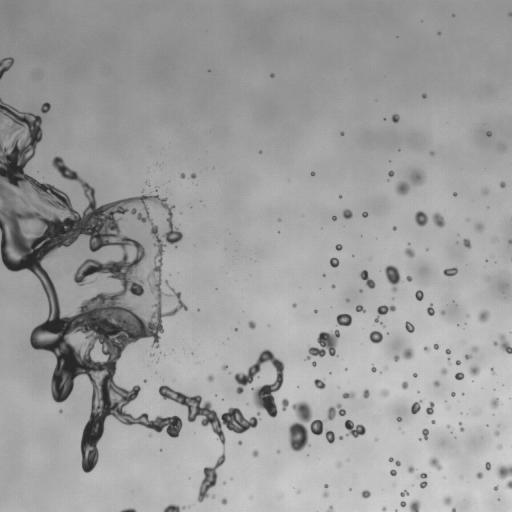droplet: (304, 329, 339, 360), (384, 265, 400, 292), (344, 418, 366, 437), (495, 463, 511, 489), (493, 333, 511, 354), (0, 57, 14, 81), (410, 170, 426, 185), (335, 312, 352, 326), (368, 329, 383, 344), (414, 210, 428, 226), (428, 455, 442, 471), (395, 181, 410, 195), (432, 212, 445, 228), (477, 309, 490, 323), (407, 498, 421, 511), (402, 347, 415, 359), (468, 364, 480, 377), (489, 397, 502, 409), (494, 423, 506, 436), (418, 428, 429, 441), (443, 267, 458, 276), (425, 401, 434, 416), (313, 378, 325, 389), (404, 247, 415, 258), (14, 102, 25, 113), (1, 115, 12, 126), (63, 157, 74, 168), (399, 172, 410, 183), (54, 177, 65, 188), (74, 202, 85, 213), (172, 219, 183, 230), (481, 227, 492, 238), (467, 230, 478, 241), (376, 273, 387, 284), (37, 311, 48, 322), (324, 322, 335, 333), (124, 341, 135, 352), (412, 347, 423, 358), (45, 351, 56, 362), (261, 360, 272, 371), (458, 362, 469, 373), (213, 368, 224, 379), (265, 372, 276, 383), (74, 373, 85, 384), (111, 373, 122, 384), (251, 377, 262, 388), (42, 378, 53, 389), (438, 385, 449, 396), (495, 388, 506, 399), (271, 390, 282, 401), (331, 394, 342, 405), (123, 402, 134, 413), (214, 404, 225, 415), (176, 406, 187, 417), (288, 412, 299, 423), (103, 415, 114, 426), (333, 415, 344, 426), (180, 420, 191, 431), (334, 424, 345, 435), (280, 431, 291, 442), (498, 485, 509, 496), (442, 494, 452, 506), (342, 390, 355, 399), (426, 302, 434, 316), (342, 208, 352, 219), (474, 221, 484, 232), (329, 257, 340, 267), (501, 456, 511, 467), (405, 321, 414, 333), (469, 406, 481, 415), (496, 143, 506, 153), (406, 464, 417, 473), (354, 305, 366, 313), (400, 487, 409, 497), (361, 489, 371, 498), (463, 238, 471, 249), (415, 290, 423, 301), (454, 372, 465, 380), (2, 96, 11, 105), (22, 165, 31, 174), (390, 175, 399, 184), (407, 182, 416, 191), (398, 193, 407, 202), (351, 209, 360, 218), (425, 217, 434, 226), (164, 242, 173, 251), (20, 267, 29, 276), (420, 298, 429, 307), (470, 308, 479, 317), (350, 311, 359, 320), (469, 312, 478, 321), (486, 315, 495, 324), (239, 322, 248, 331), (449, 351, 458, 360), (114, 359, 123, 368), (479, 366, 488, 375), (184, 388, 193, 397), (340, 399, 349, 408), (419, 400, 428, 409), (482, 402, 491, 411), (309, 411, 318, 420), (81, 413, 90, 422), (74, 430, 83, 439), (95, 439, 104, 448), (423, 464, 432, 473), (489, 465, 498, 474), (403, 494, 412, 503), (362, 388, 370, 398), (391, 114, 399, 123), (247, 320, 255, 329), (440, 367, 448, 376), (206, 373, 214, 382), (380, 389, 389, 397), (251, 447, 258, 457), (218, 505, 229, 511), (481, 187, 489, 195), (475, 471, 483, 479), (187, 172, 196, 179), (371, 363, 377, 373), (485, 461, 491, 471), (401, 381, 408, 389), (432, 380, 440, 387), (335, 244, 342, 251), (423, 346, 430, 353), (335, 461, 342, 468), (390, 469, 397, 476), (39, 123, 46, 130), (35, 141, 42, 148), (46, 156, 53, 163), (53, 169, 60, 176), (69, 178, 76, 185), (119, 192, 126, 199), (111, 194, 118, 201), (165, 198, 172, 205), (336, 213, 343, 220), (408, 214, 415, 221), (442, 215, 449, 222), (470, 216, 477, 223), (409, 217, 416, 224), (482, 220, 489, 227), (467, 221, 474, 228), (409, 243, 416, 250), (332, 250, 339, 257), (402, 254, 409, 261), (391, 260, 398, 267), (8, 269, 15, 276), (398, 272, 405, 279), (384, 280, 391, 287), (159, 283, 166, 290), (378, 313, 385, 320), (337, 324, 344, 331), (374, 324, 381, 331), (146, 335, 153, 342), (334, 345, 341, 352), (438, 345, 445, 352), (396, 349, 403, 356), (272, 351, 279, 358), (313, 354, 320, 361), (398, 355, 405, 362), (250, 356, 257, 363), (406, 357, 413, 364), (440, 360, 447, 367), (454, 365, 461, 372), (281, 368, 288, 375), (436, 374, 443, 381), (473, 374, 480, 381), (406, 376, 413, 383), (232, 381, 239, 388), (243, 383, 250, 390), (125, 384, 132, 391), (356, 389, 363, 396), (491, 390, 498, 397), (68, 391, 75, 398), (58, 400, 65, 407), (285, 404, 292, 411), (260, 408, 267, 415), (132, 410, 139, 417), (243, 413, 250, 420), (147, 414, 154, 421), (196, 414, 203, 421), (339, 415, 346, 422), (351, 419, 358, 426), (134, 423, 141, 430), (426, 423, 433, 430), (220, 424, 227, 431), (488, 424, 495, 431), (247, 426, 254, 433), (148, 427, 155, 434), (306, 430, 313, 437), (494, 436, 501, 443), (301, 445, 308, 452), (437, 457, 444, 464), (207, 460, 214, 467), (388, 462, 395, 469), (490, 463, 497, 470), (92, 464, 99, 471), (478, 465, 485, 472), (214, 467, 221, 474), (439, 468, 446, 475), (215, 476, 222, 483), (207, 486, 214, 493), (192, 488, 199, 495), (441, 489, 448, 496), (214, 496, 221, 503), (436, 497, 443, 504), (170, 498, 177, 505), (433, 342, 439, 350), (471, 346, 479, 352), (464, 354, 472, 360), (325, 505, 333, 511), (506, 179, 511, 188), (506, 472, 511, 481), (402, 506, 411, 511), (179, 172, 185, 179), (499, 181, 505, 188), (362, 210, 368, 217), (491, 236, 498, 242), (406, 275, 412, 282), (483, 275, 490, 281), (393, 354, 399, 361), (221, 364, 228, 370), (277, 492, 283, 499), (221, 498, 227, 505), (486, 131, 492, 137), (144, 180, 150, 186), (331, 215, 337, 221), (445, 348, 451, 354), (396, 416, 402, 422), (493, 484, 499, 490), (400, 501, 406, 507), (0, 260, 4, 269), (292, 302, 297, 308), (440, 309, 445, 315), (455, 360, 461, 365), (430, 419, 436, 424), (496, 444, 502, 449), (507, 487, 511, 494), (385, 507, 392, 511), (417, 507, 424, 511), (421, 93, 426, 98), (429, 150, 434, 155), (310, 171, 315, 176), (330, 284, 335, 289), (313, 308, 318, 313), (412, 372, 417, 377), (450, 392, 455, 397), (381, 506, 386, 511), (451, 506, 456, 511), (8, 66, 13, 71), (2, 71, 7, 76), (421, 88, 426, 93), (425, 92, 430, 97), (43, 97, 48, 102), (49, 104, 54, 109), (48, 107, 53, 112), (386, 115, 391, 120), (397, 118, 402, 123), (56, 152, 61, 157), (178, 168, 183, 173), (76, 171, 81, 176), (185, 172, 190, 177), (195, 172, 200, 177), (178, 177, 183, 182), (192, 177, 197, 182), (38, 178, 43, 183), (149, 180, 154, 185), (88, 181, 93, 186), (495, 184, 500, 189), (143, 190, 148, 195), (151, 190, 156, 195), (136, 191, 141, 196), (128, 192, 133, 197), (123, 193, 128, 198), (158, 193, 163, 198), (115, 195, 120, 200), (418, 206, 423, 211), (170, 216, 175, 221), (346, 217, 351, 222), (178, 227, 183, 232), (464, 234, 469, 239), (175, 240, 180, 245), (458, 240, 463, 245), (469, 240, 474, 245), (503, 240, 508, 245), (165, 241, 170, 246), (403, 243, 408, 248), (461, 245, 466, 250), (447, 263, 452, 268), (160, 265, 165, 270), (335, 265, 340, 270), (456, 265, 461, 270), (358, 266, 363, 271), (409, 272, 414, 277), (367, 273, 372, 278), (442, 274, 447, 279), (160, 275, 165, 280), (448, 275, 453, 280), (39, 287, 44, 292), (174, 287, 179, 292), (370, 287, 375, 292), (391, 291, 396, 296), (41, 292, 46, 297), (179, 295, 184, 300), (411, 296, 416, 301), (421, 296, 426, 301), (376, 301, 381, 306), (385, 302, 390, 307), (449, 302, 454, 307), (442, 305, 447, 310), (338, 309, 343, 314), (386, 309, 391, 314), (373, 310, 378, 315), (433, 310, 438, 315), (423, 311, 428, 316), (430, 314, 435, 319), (160, 316, 165, 321), (251, 317, 256, 322), (464, 317, 469, 322), (332, 318, 337, 323), (350, 318, 355, 323), (459, 322, 464, 327), (254, 323, 259, 328), (247, 327, 252, 332), (402, 328, 407, 333), (498, 328, 503, 333), (365, 330, 370, 335), (314, 332, 319, 337), (381, 332, 386, 337), (364, 333, 369, 338), (25, 334, 30, 339), (366, 338, 371, 343), (496, 338, 501, 343), (25, 339, 30, 344), (378, 340, 383, 345), (370, 341, 375, 346), (473, 341, 478, 346), (26, 342, 31, 347), (428, 343, 433, 348), (152, 347, 157, 352), (466, 349, 471, 354), (120, 350, 125, 355), (304, 350, 309, 355), (502, 350, 507, 355), (470, 351, 475, 356), (389, 352, 394, 357), (158, 353, 163, 358), (459, 356, 464, 361), (450, 358, 455, 363), (375, 365, 380, 370), (436, 366, 441, 371), (222, 369, 227, 374), (203, 372, 208, 377), (230, 372, 235, 377), (318, 375, 323, 380), (212, 377, 217, 382), (398, 378, 403, 383), (453, 378, 458, 383), (203, 379, 208, 384), (162, 380, 167, 385), (281, 380, 286, 385), (138, 382, 143, 387), (310, 382, 315, 387), (168, 383, 173, 388), (429, 383, 434, 388), (397, 384, 402, 389), (154, 385, 159, 390), (432, 385, 437, 390), (436, 385, 441, 390), (316, 387, 321, 392), (320, 387, 325, 392), (344, 387, 349, 392), (137, 390, 142, 395), (368, 391, 373, 396), (455, 391, 460, 396), (87, 392, 92, 397), (157, 394, 162, 399), (216, 394, 221, 399), (384, 395, 389, 400), (165, 397, 170, 402), (363, 397, 368, 402), (497, 398, 502, 403), (287, 401, 292, 406), (331, 402, 336, 407), (86, 403, 91, 408), (232, 403, 237, 408), (182, 404, 187, 409), (340, 404, 345, 409), (432, 405, 437, 410), (406, 406, 411, 411), (491, 407, 496, 412), (141, 408, 146, 413), (168, 412, 173, 417), (334, 412, 339, 417), (161, 413, 166, 418), (428, 413, 433, 418), (256, 420, 261, 425), (139, 424, 144, 429), (161, 426, 166, 431), (321, 428, 326, 433), (344, 428, 349, 433), (364, 428, 369, 433), (499, 431, 504, 436), (418, 432, 423, 437), (489, 432, 494, 437), (213, 433, 218, 438), (333, 433, 338, 438), (348, 433, 353, 438), (170, 436, 175, 441), (333, 436, 338, 441), (216, 439, 221, 444), (248, 447, 253, 452), (76, 449, 81, 454), (257, 450, 262, 455), (216, 451, 221, 456), (77, 454, 82, 459), (224, 455, 229, 460), (253, 456, 258, 461), (398, 457, 403, 462), (341, 460, 346, 465), (412, 463, 417, 468), (393, 465, 398, 470), (418, 468, 423, 473), (200, 473, 205, 478), (473, 476, 478, 481), (418, 477, 423, 482), (478, 477, 483, 482), (225, 478, 230, 483), (361, 485, 366, 490), (424, 485, 429, 490), (326, 486, 331, 491), (366, 486, 371, 491), (357, 493, 362, 498), (202, 496, 207, 501), (400, 496, 405, 501), (363, 497, 368, 502), (226, 498, 231, 503), (405, 501, 410, 506), (163, 502, 168, 507), (220, 503, 225, 508), (124, 504, 129, 509), (323, 504, 328, 509), (396, 504, 401, 509), (332, 505, 337, 510), (447, 505, 452, 510), (155, 185, 159, 191), (312, 361, 316, 367), (445, 424, 451, 428), (0, 198, 3, 205), (269, 73, 274, 77), (452, 192, 457, 196), (358, 289, 363, 293), (345, 298, 350, 302), (227, 371, 232, 375), (338, 435, 343, 439), (238, 440, 242, 445), (296, 489, 300, 494), (508, 238, 511, 244), (149, 353, 155, 356), (156, 357, 159, 363), (437, 31, 441, 35), (340, 131, 344, 135), (338, 194, 342, 198), (392, 226, 396, 230), (143, 379, 147, 383), (397, 426, 401, 430), (374, 437, 378, 441), (276, 449, 280, 453), (222, 481, 226, 485), (249, 495, 253, 499), (163, 353, 166, 358), (346, 457, 349, 462), (508, 7, 511, 12), (508, 15, 511, 20), (508, 234, 511, 239), (508, 243, 511, 248), (508, 342, 511, 347), (508, 352, 511, 357), (178, 508, 183, 511), (452, 13, 455, 17), (508, 12, 511, 16), (277, 218, 281, 221), (466, 218, 470, 221), (322, 273, 325, 277), (267, 324, 271, 327), (234, 328, 238, 331), (190, 351, 193, 355), (344, 367, 347, 371), (461, 392, 465, 395), (245, 402, 249, 405), (59, 409, 62, 413), (0, 55, 2, 60), (0, 231, 2, 236), (0, 234, 2, 239), (383, 117, 386, 120), (259, 150, 262, 153), (199, 199, 202, 202), (486, 206, 489, 209), (277, 230, 280, 233), (407, 242, 410, 245), (425, 248, 428, 251), (485, 259, 488, 262), (466, 314, 469, 317), (226, 337, 229, 340), (417, 390, 420, 393), (214, 394, 217, 397), (486, 424, 489, 427), (188, 476, 191, 479), (230, 477, 233, 480), (443, 476, 446, 479), (348, 488, 351, 491), (497, 498, 500, 501), (453, 11, 456, 14), (438, 28, 441, 31), (440, 32, 443, 35), (436, 34, 439, 37), (5, 54, 8, 57), (9, 54, 12, 57), (12, 61, 15, 64), (206, 66, 209, 69), (210, 68, 213, 71), (271, 70, 274, 73), (207, 71, 210, 74), (267, 71, 270, 74), (268, 76, 271, 79), (272, 76, 275, 79), (419, 96, 422, 99), (423, 97, 426, 100), (382, 114, 385, 117), (381, 119, 384, 122), (487, 127, 490, 130), (339, 128, 342, 131), (337, 132, 340, 135), (343, 132, 346, 135), (0, 133, 3, 136), (340, 135, 343, 138), (485, 135, 488, 138), (489, 135, 492, 138), (395, 146, 398, 149), (255, 149, 258, 152), (261, 150, 264, 153), (397, 151, 400, 154), (256, 152, 259, 155), (387, 156, 390, 159), (152, 160, 155, 163), (157, 160, 160, 163), (387, 168, 390, 171), (392, 168, 395, 171), (313, 169, 316, 172), (307, 172, 310, 175), (314, 172, 317, 175), (311, 175, 314, 178), (386, 175, 389, 178), (189, 177, 192, 180), (142, 178, 145, 181), (156, 182, 159, 185), (504, 184, 507, 187), (501, 187, 504, 190), (454, 189, 457, 192), (449, 192, 452, 195), (335, 194, 338, 197), (341, 194, 344, 197), (455, 194, 458, 197), (451, 195, 454, 198), (200, 201, 203, 204), (187, 203, 190, 206), (364, 208, 367, 211), (359, 210, 362, 213), (367, 211, 370, 214), (332, 212, 335, 215), (361, 216, 364, 219), (364, 216, 367, 219), (329, 218, 332, 221), (394, 223, 397, 226), (389, 225, 392, 228), (276, 227, 279, 230), (279, 229, 282, 232), (394, 229, 397, 232), (275, 232, 278, 235), (408, 239, 411, 242), (339, 241, 342, 244), (333, 242, 336, 245), (425, 244, 428, 247), (161, 246, 164, 249), (332, 246, 335, 249), (422, 248, 425, 251), (427, 249, 430, 252), (352, 251, 355, 254), (348, 253, 351, 256), (161, 254, 164, 257), (351, 256, 354, 259), (486, 256, 489, 259), (482, 257, 485, 260), (161, 259, 164, 262), (338, 259, 341, 262), (484, 261, 487, 264), (328, 264, 331, 267), (319, 272, 322, 275), (321, 276, 324, 279), (410, 279, 413, 282), (167, 280, 170, 283), (332, 281, 335, 284), (328, 283, 331, 286), (214, 284, 217, 287), (329, 287, 332, 290), (333, 287, 336, 290), (355, 289, 358, 292), (170, 291, 173, 294), (412, 291, 415, 294), (422, 291, 425, 294), (358, 292, 361, 295), (347, 295, 350, 298), (451, 296, 454, 299), (342, 298, 345, 301), (416, 299, 419, 302), (448, 299, 451, 302), (291, 300, 294, 303), (294, 300, 297, 303), (454, 300, 457, 303), (359, 302, 362, 305), (289, 304, 292, 307), (295, 304, 298, 307), (426, 304, 429, 307), (431, 305, 434, 308), (315, 306, 318, 309), (292, 307, 295, 310), (199, 308, 202, 311), (196, 311, 199, 314), (311, 311, 314, 314), (316, 311, 319, 314), (409, 320, 412, 323), (456, 320, 459, 323), (376, 321, 379, 324), (453, 323, 456, 326), (234, 324, 237, 327), (463, 324, 466, 327), (402, 325, 405, 328), (231, 327, 234, 330), (237, 327, 240, 330), (235, 330, 238, 333), (411, 331, 414, 334), (433, 340, 436, 343), (490, 341, 493, 344), (437, 342, 440, 345), (157, 346, 160, 349), (420, 346, 423, 349), (449, 347, 452, 350), (146, 351, 149, 354), (164, 351, 167, 354), (193, 352, 196, 355), (188, 353, 191, 356), (447, 353, 450, 356), (151, 355, 154, 358), (164, 355, 167, 358), (303, 355, 306, 358), (300, 358, 303, 361), (391, 358, 394, 361), (152, 359, 155, 362), (158, 359, 161, 362), (315, 362, 318, 365), (343, 364, 346, 367), (369, 364, 372, 367), (373, 364, 376, 367), (489, 364, 492, 367), (226, 367, 229, 370), (492, 367, 495, 370), (328, 368, 331, 371), (487, 368, 490, 371), (346, 369, 349, 372), (375, 369, 378, 372), (369, 370, 372, 373), (411, 370, 414, 373), (331, 371, 334, 374), (372, 371, 375, 374), (379, 373, 382, 376), (416, 374, 419, 377), (141, 376, 144, 379), (412, 376, 415, 379), (146, 379, 149, 382), (323, 380, 326, 383), (293, 384, 296, 387), (298, 384, 301, 387), (417, 387, 420, 390), (495, 387, 498, 390), (448, 390, 451, 393), (463, 390, 466, 393), (388, 391, 391, 394), (339, 394, 342, 397), (449, 395, 452, 398), (461, 395, 464, 398), (415, 398, 418, 401), (432, 400, 435, 403), (497, 404, 500, 407), (344, 408, 347, 411), (56, 411, 59, 414), (468, 411, 471, 414), (462, 412, 465, 415), (397, 413, 400, 416), (255, 415, 258, 418), (491, 415, 494, 418), (401, 417, 404, 420), (458, 418, 461, 421), (394, 419, 397, 422), (434, 420, 437, 423), (397, 421, 400, 424), (446, 421, 449, 424), (483, 421, 486, 424), (487, 421, 490, 424), (483, 425, 486, 428), (400, 427, 403, 430), (448, 427, 451, 430), (496, 427, 499, 430), (397, 429, 400, 432), (459, 431, 462, 434), (426, 433, 429, 436), (415, 438, 418, 441), (452, 438, 455, 441), (241, 441, 244, 444), (329, 442, 332, 445), (237, 444, 240, 447), (161, 447, 164, 450), (156, 448, 159, 451), (273, 450, 276, 453), (159, 451, 162, 454), (385, 457, 388, 460), (486, 458, 489, 461), (489, 461, 492, 464), (395, 472, 398, 475), (391, 475, 394, 478), (326, 481, 329, 484), (493, 483, 496, 486), (321, 484, 324, 487), (348, 484, 351, 487), (345, 486, 348, 489), (351, 487, 354, 490), (419, 487, 422, 490), (293, 488, 296, 491), (406, 488, 409, 491), (492, 489, 495, 492), (397, 493, 400, 496), (499, 496, 502, 499), (397, 500, 400, 503), (496, 500, 499, 503), (328, 502, 331, 505), (455, 508, 458, 511), (410, 484, 414, 486), (208, 69, 210, 72), (388, 160, 391, 162), (155, 162, 157, 165), (179, 212, 182, 214), (457, 233, 459, 236), (352, 254, 354, 257), (169, 273, 171, 276), (392, 297, 394, 300), (197, 308, 199, 311), (457, 323, 459, 326), (386, 332, 389, 334), (329, 371, 331, 374), (297, 385, 299, 388), (337, 386, 340, 388), (221, 398, 223, 401), (454, 436, 456, 439), (160, 448, 162, 451), (307, 453, 309, 456), (394, 509, 397, 511), (509, 328, 511, 331), (509, 394, 511, 397), (379, 509, 382, 511), (391, 509, 394, 511), (398, 149, 400, 151), (212, 167, 214, 169), (360, 235, 362, 237), (456, 241, 458, 243), (464, 322, 466, 324), (509, 331, 511, 333), (159, 351, 161, 353), (155, 371, 157, 373), (472, 380, 474, 382), (502, 384, 504, 386), (509, 397, 511, 399), (460, 412, 462, 414), (492, 413, 494, 415), (379, 270, 381, 271), (215, 288, 217, 289), (293, 487, 295, 488), (397, 36, 398, 37)
ligament: (358, 269, 376, 289), (411, 398, 425, 414), (163, 504, 190, 511), (388, 456, 401, 466), (322, 483, 329, 498), (387, 170, 394, 182), (458, 421, 465, 432), (119, 507, 137, 511), (490, 366, 496, 375), (447, 356, 451, 365), (452, 300, 457, 306), (450, 429, 453, 433), (189, 205, 192, 208), (493, 388, 495, 391)
